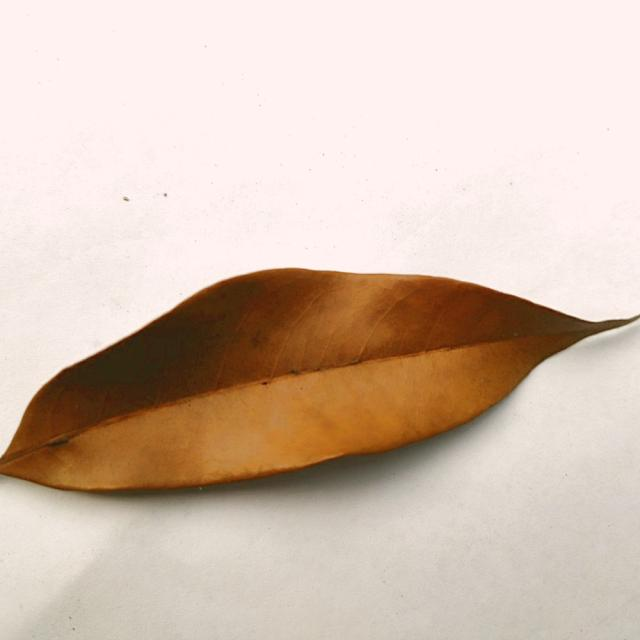Dry_Leaf-Lychee: (0, 269, 639, 497)
